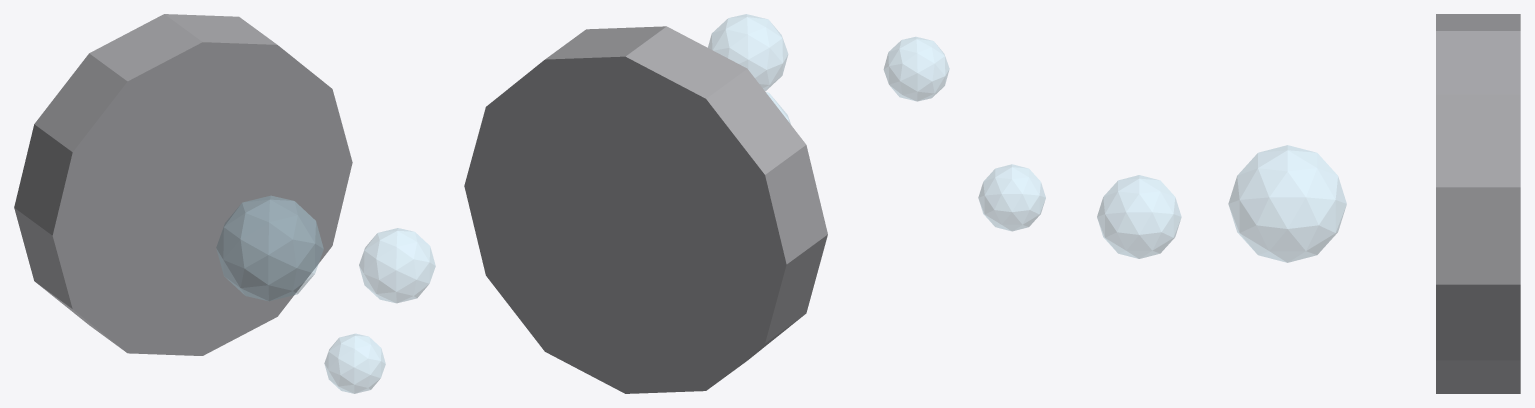
File: underwater_bubble_vent.glb
3 renders of one model, left to right at view 1: azimuth 30°, elevation 25°; view 2: azimuth 150°, elevation 25°; view 3: azimuth 270°, elevation 25°, orthographic. The views are drawn at different scales.
Visible parts, largest first — view 1: vent, bubble_a, bubble_b, bubble_c; view 2: vent, bubble_b, bubble_c; view 3: vent, bubble_a, bubble_b, bubble_c.
Part boxes in pixels (box(x1,y1,x2,y2)): vent: box(14, 14, 352, 355); bubble_a: box(216, 196, 323, 300); bubble_b: box(359, 228, 435, 302); bubble_c: box(324, 334, 385, 393); vent: box(464, 26, 827, 393); bubble_b: box(708, 14, 787, 90); bubble_c: box(884, 37, 949, 101); vent: box(1436, 14, 1520, 393); bubble_a: box(1228, 145, 1346, 262); bubble_b: box(1097, 175, 1181, 258); bubble_c: box(978, 164, 1045, 231).
Size of the model in its own units: 0.9 by 0.9 by 1.28.
